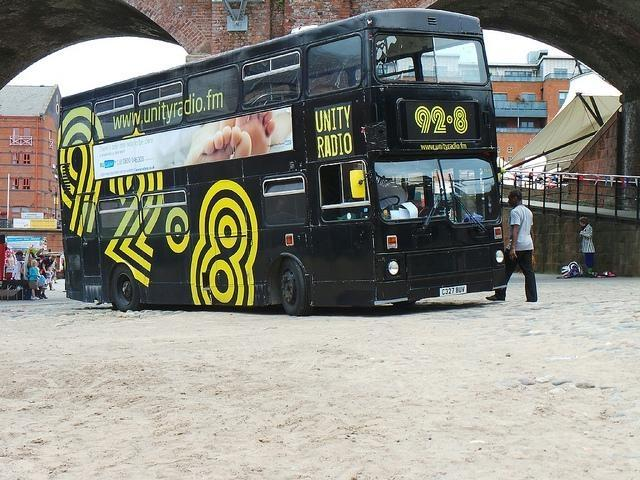bus: (54, 8, 510, 318)
